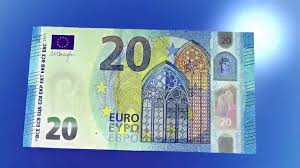billete: (23, 26, 257, 155)
